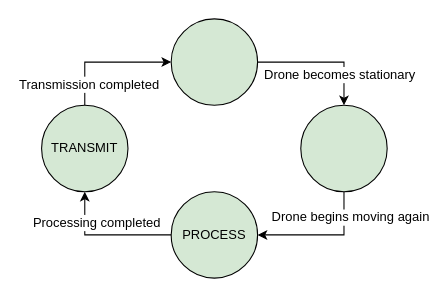
Image size: 447x297. Some labels were removed from this diagram. Each missing label, with the centre of its shape:
"IDLE" goes at [214,61].
"SAMPLE" goes at [343,148].
